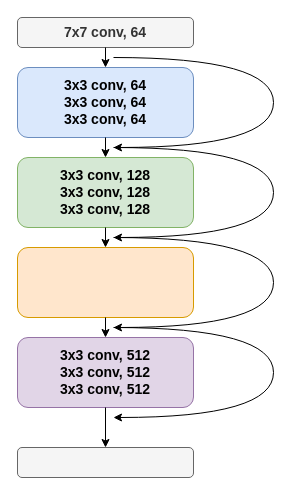
Some shapes in this 291 by 495 pixel diagram are drawn without their labels. The centre of each missing label's shape, as x and y in pixels:
3x3 conv, 256 3x3 conv, 256 3x3 conv, 256: point 105,282
FC, 40: point 105,462
